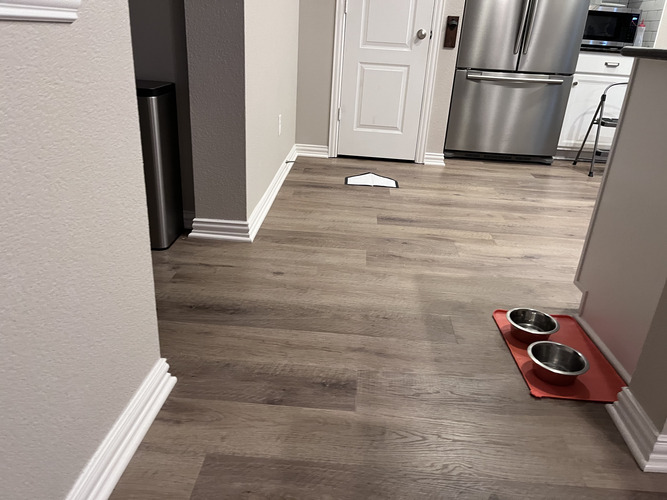homeplate: (345, 171, 398, 188)
